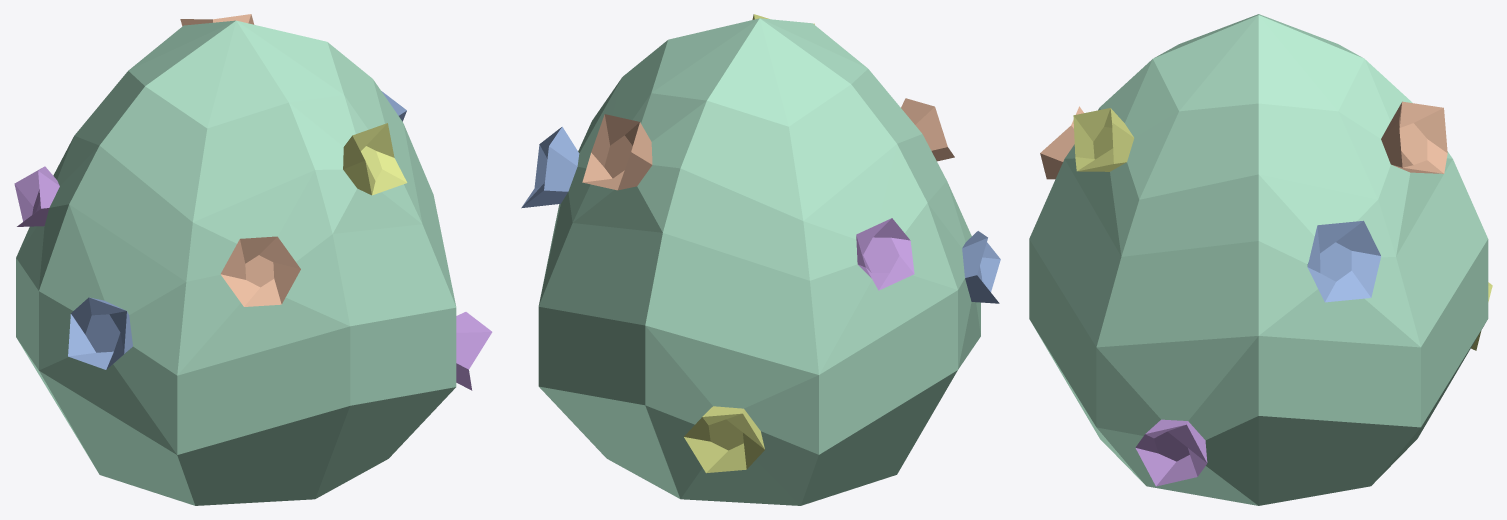
The model's file is Bush2b.fbx.
The picture shows the model from 3 angles, left to right: view 1: azimuth 30°, elevation 25°; view 2: azimuth 150°, elevation 25°; view 3: azimuth 270°, elevation 25°; orthographic projection.
Parts seen in each view (by area): view 1: Circle; view 2: Circle; view 3: Circle.
Part boxes in pixels (x1,y1,x2,y2): Circle: [14, 14, 492, 505]; Circle: [521, 14, 1000, 505]; Circle: [1029, 14, 1492, 505].
Size of the model in its own units: 271 by 265 by 263.
